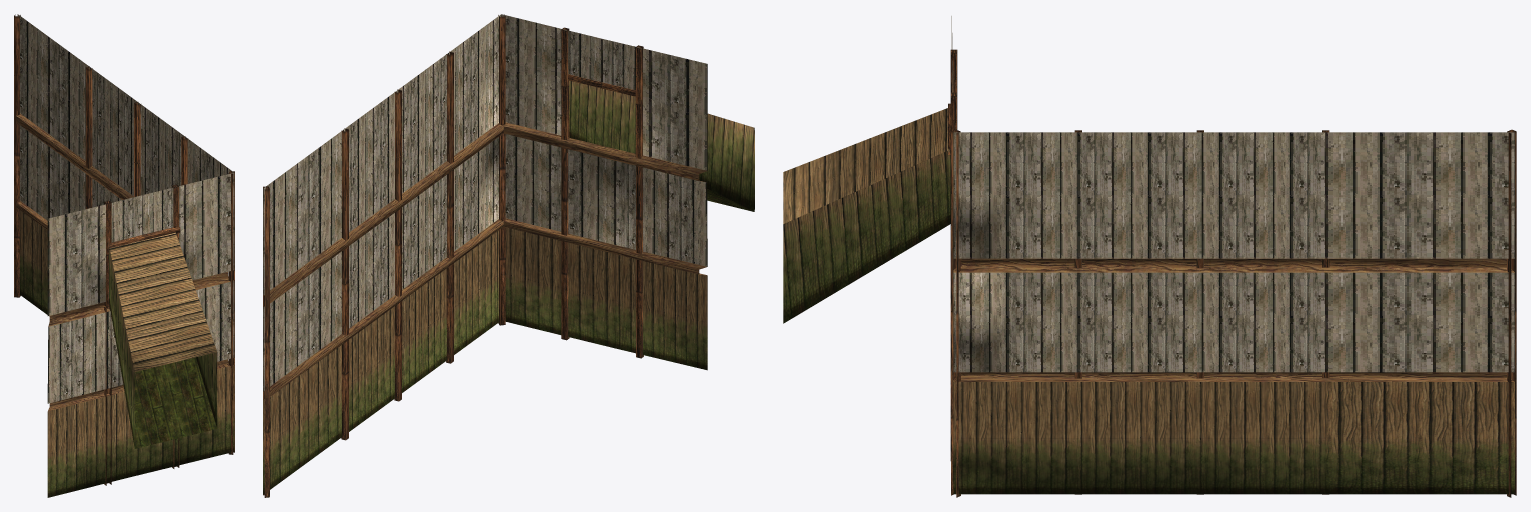
The model's file is LAKETOWN_WAREHOUSE3_PS_WH3_SIDEWALL7635__GX.fbx.
The picture shows the model from 3 angles, left to right: view 1: azimuth 30°, elevation 25°; view 2: azimuth 150°, elevation 25°; view 3: azimuth 270°, elevation 25°; orthographic projection. The views are drawn at different scales.
Parts seen in each view (by area): view 1: LAKETOWN_WAREHOUSE3_PS_WH3_SIDEWALL7635__GX; view 2: LAKETOWN_WAREHOUSE3_PS_WH3_SIDEWALL7635__GX; view 3: LAKETOWN_WAREHOUSE3_PS_WH3_SIDEWALL7635__GX.
Boxes of the visible parts, left/top/right/bottom form: LAKETOWN_WAREHOUSE3_PS_WH3_SIDEWALL7635__GX: left=14, top=14, right=234, bottom=497; LAKETOWN_WAREHOUSE3_PS_WH3_SIDEWALL7635__GX: left=263, top=14, right=754, bottom=497; LAKETOWN_WAREHOUSE3_PS_WH3_SIDEWALL7635__GX: left=783, top=16, right=1516, bottom=497.
Bounding box in the file's own units: 91219 × 130090 × 236365.
7 materials, 7 textured.
